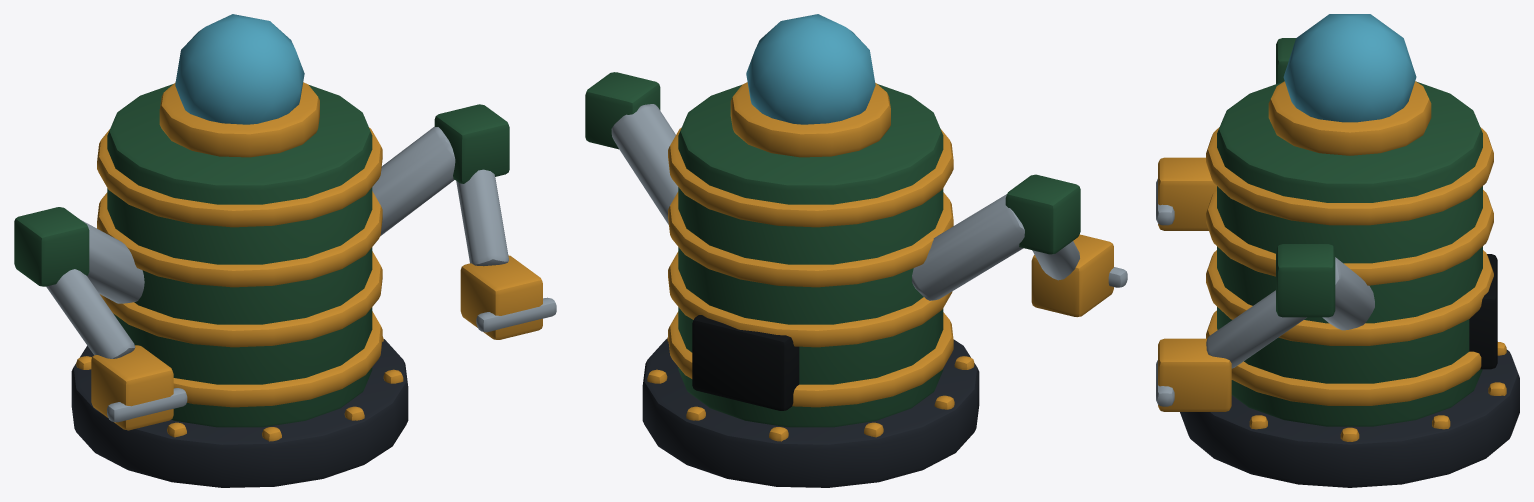
File: MenderHead.obj
The picture shows the model from 3 angles, left to right: view 1: azimuth 30°, elevation 25°; view 2: azimuth 150°, elevation 25°; view 3: azimuth 270°, elevation 25°; orthographic projection.
Visible parts, largest first — view 1: MenderHead; view 2: MenderHead; view 3: MenderHead.
Part boxes in pixels (x1=…): MenderHead: x1=14, y1=14, x2=556, y2=487; MenderHead: x1=585, y1=14, x2=1127, y2=487; MenderHead: x1=1156, y1=14, x2=1519, y2=487.
Size of the model in its own units: 1.48 by 1.2 by 0.985.
